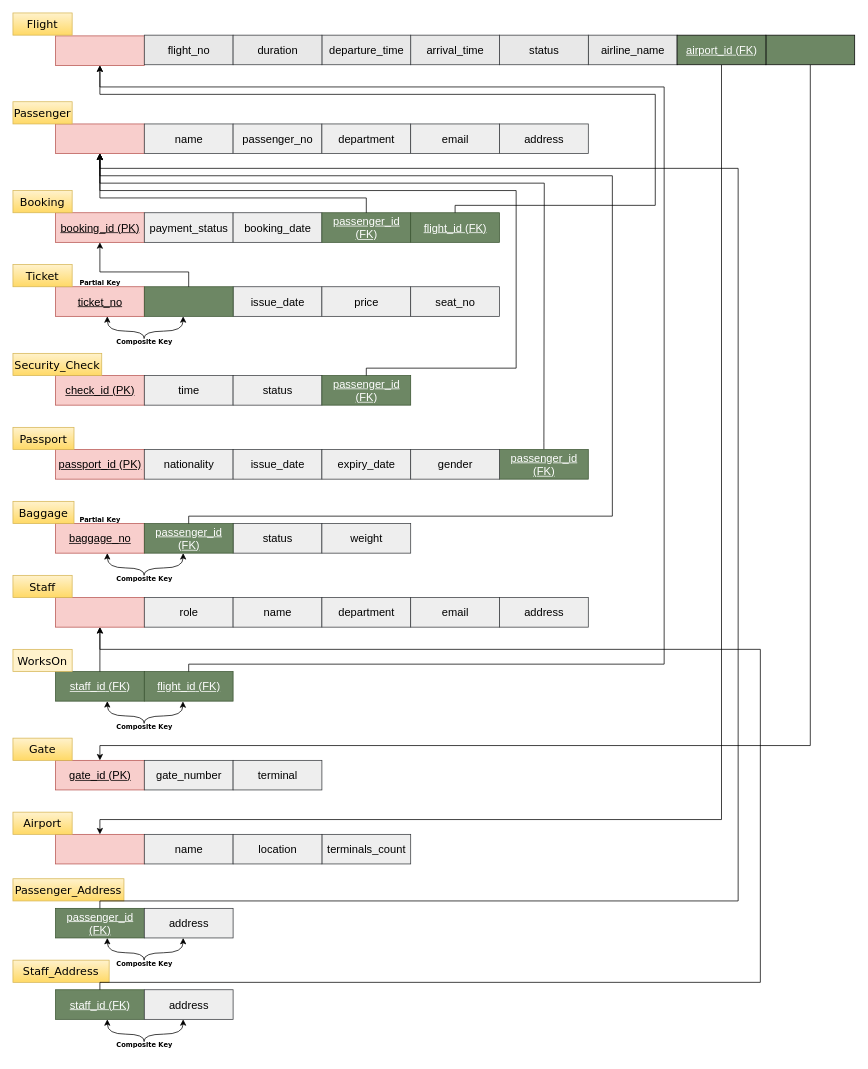
Image size: 868x1069. Some labels were removed from this diagram. The shapes that lost their labels are listed below. From the top down, each one's centre as x and y in pixels, then its label:
At [99,50]: "flight_id (PK)".
At [810,49]: "gate_id (FK)".
At [99,138]: "passenger_id (PK)".
At [188,301]: "booking_id (FK)".
At [99,612]: "staff_id (PK)".
At [99,849]: "airport_id (PK)".
